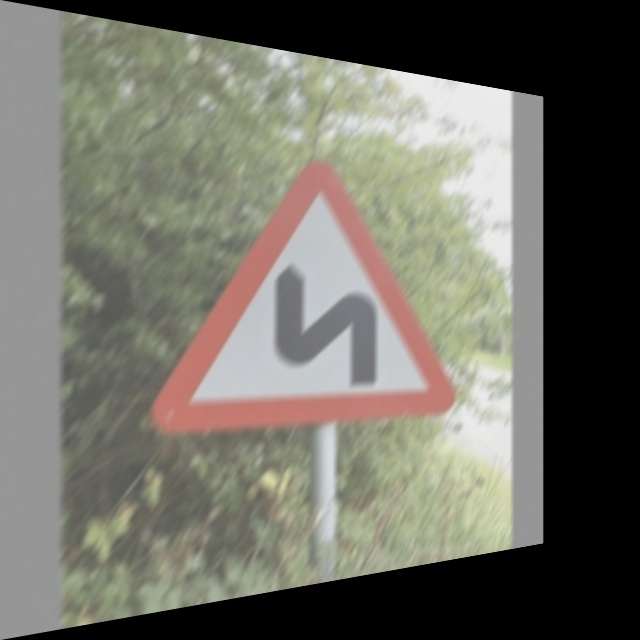Left_Reverse_Bend: (151, 143, 455, 433)
